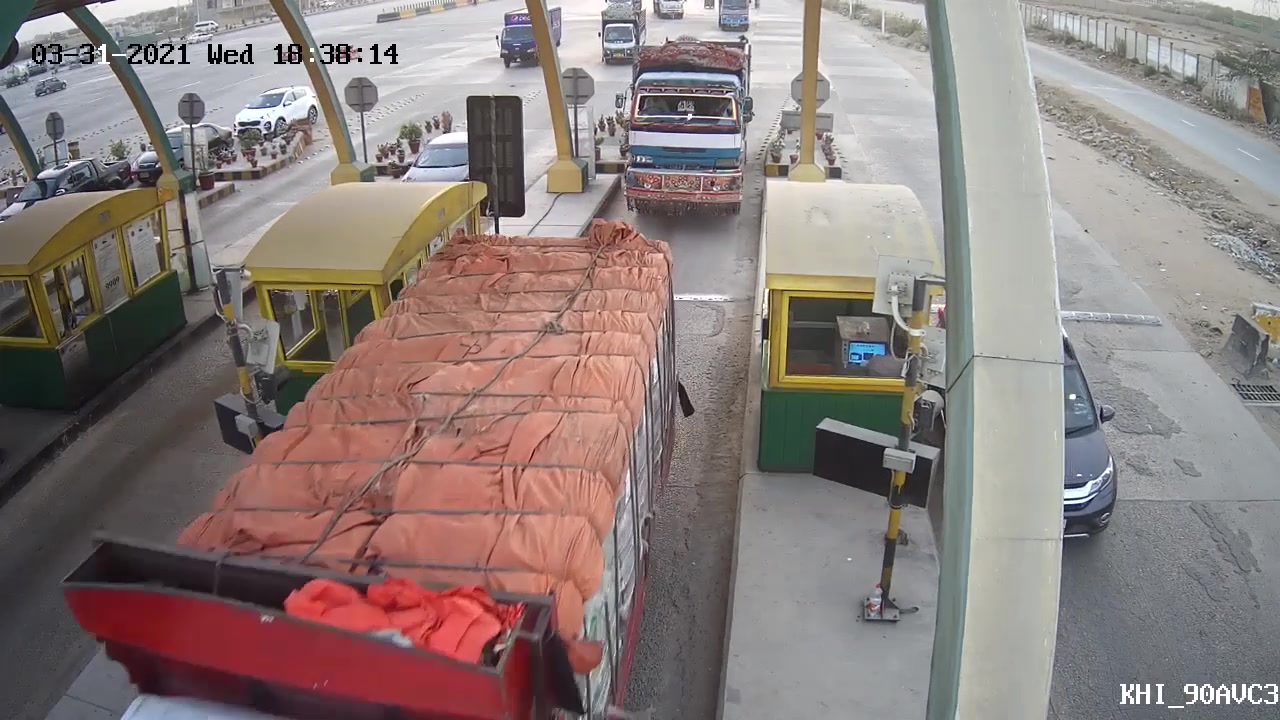F5: (618, 23, 766, 230)
